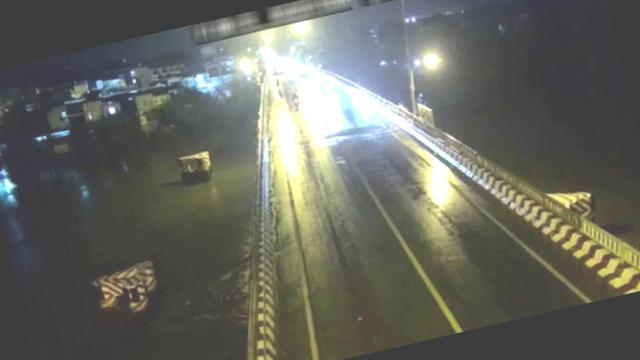Bike: (286, 88, 304, 109)
